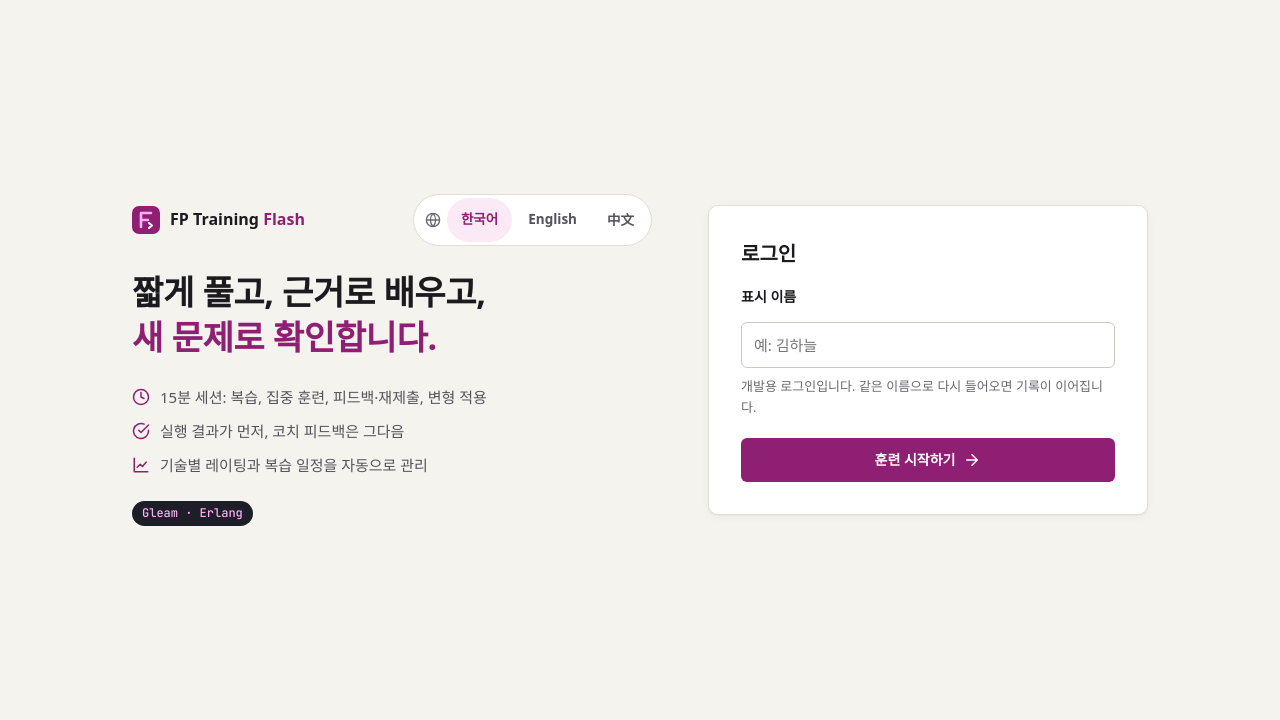
Scenario: login › logs in by display name and stores the token
Click the button "훈련 시작하기". click: (928, 460)
box: [741, 438, 1115, 482]
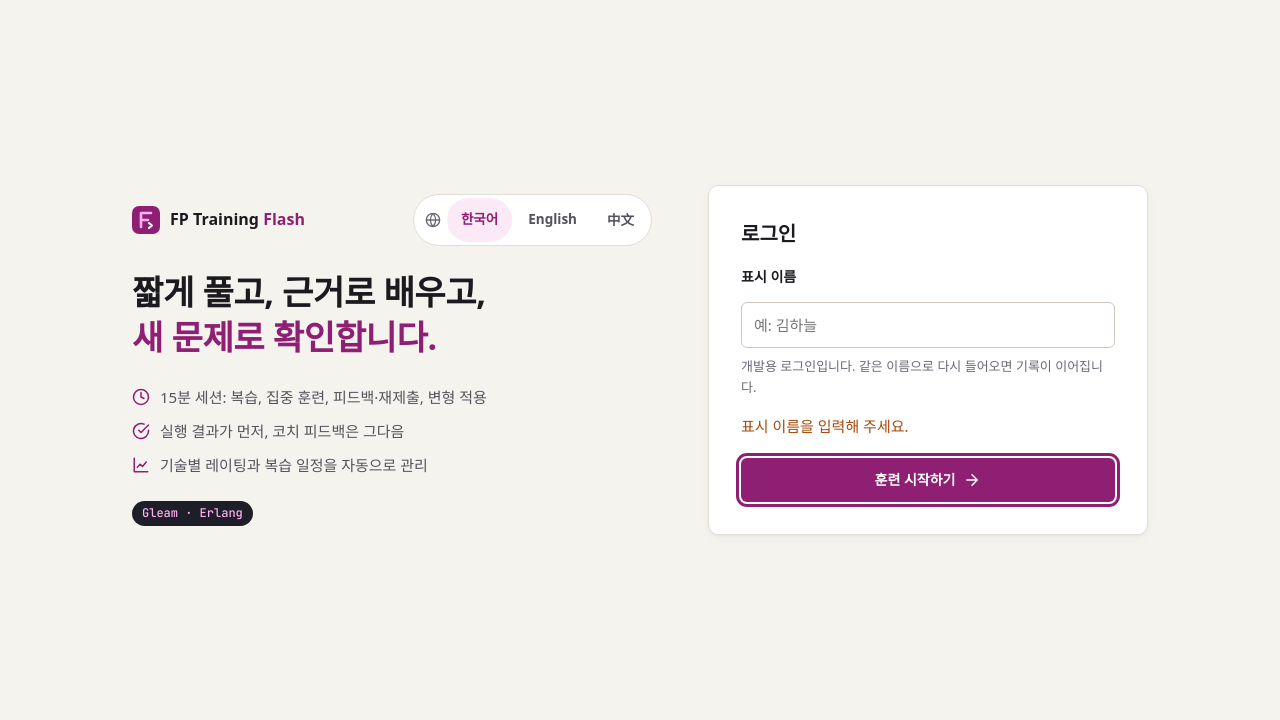
Check: the message reads "표시 이름을 입력해 주세요.", box [741, 416, 908, 436]
Type "김하늘" into the field labelled "표시 이름". click: (928, 325)
box: [741, 302, 1115, 348]
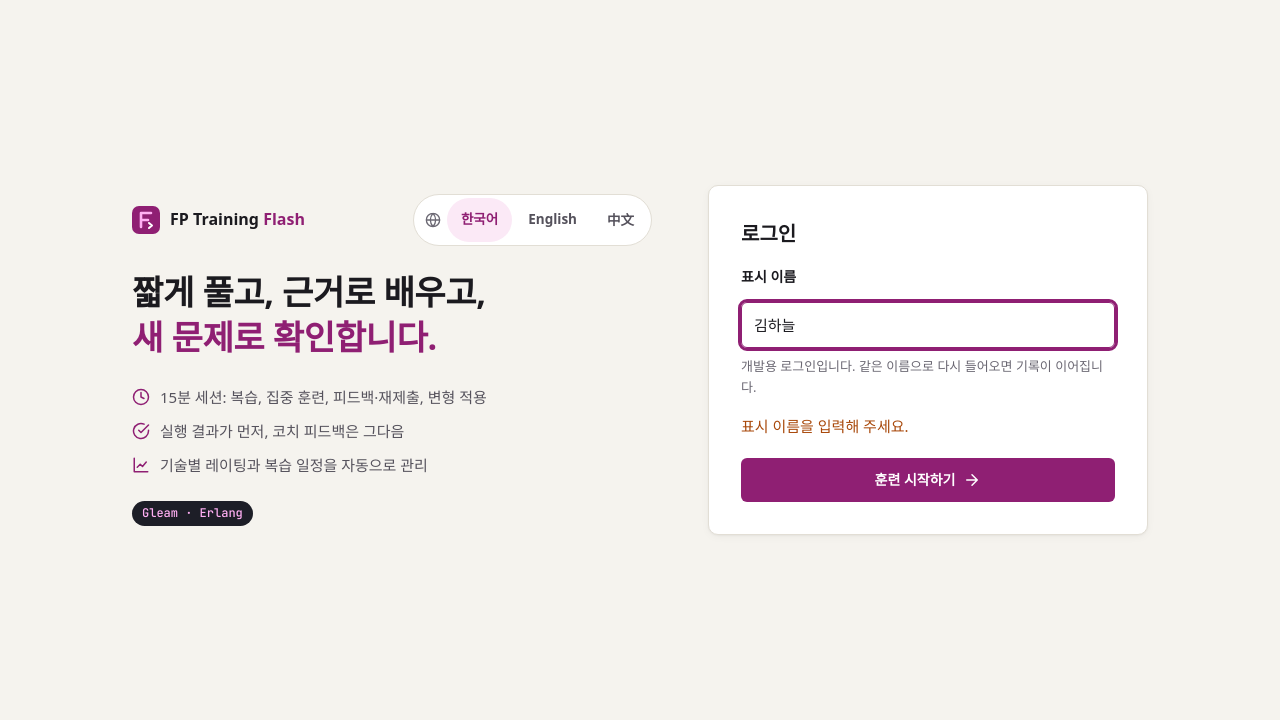
Click the button "훈련 시작하기". click: (928, 480)
box: [741, 458, 1115, 502]
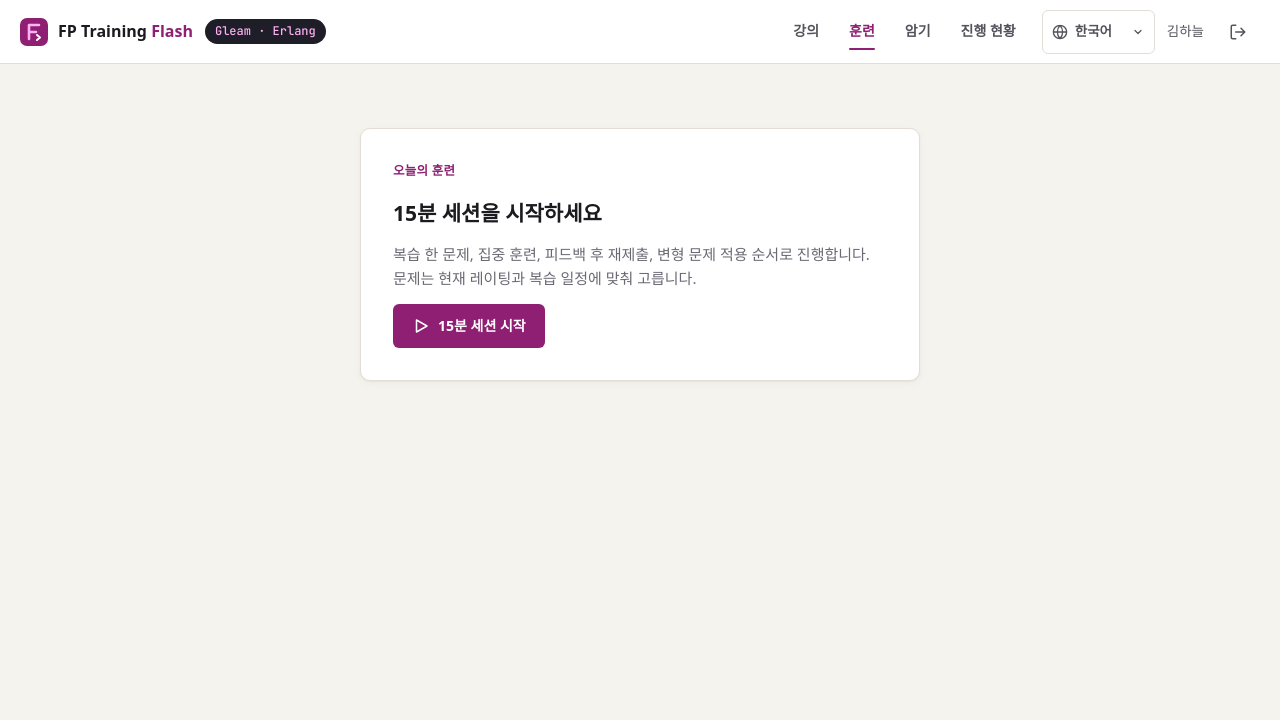
Check: the button "15분 세션 시작" is shown, box [393, 304, 545, 348]
